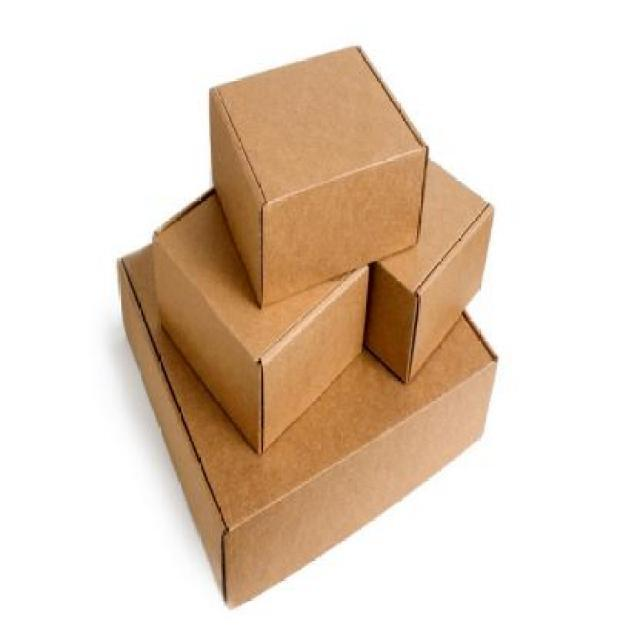box: (113, 247, 497, 604), (156, 181, 368, 454), (207, 40, 420, 299), (367, 152, 493, 386)
